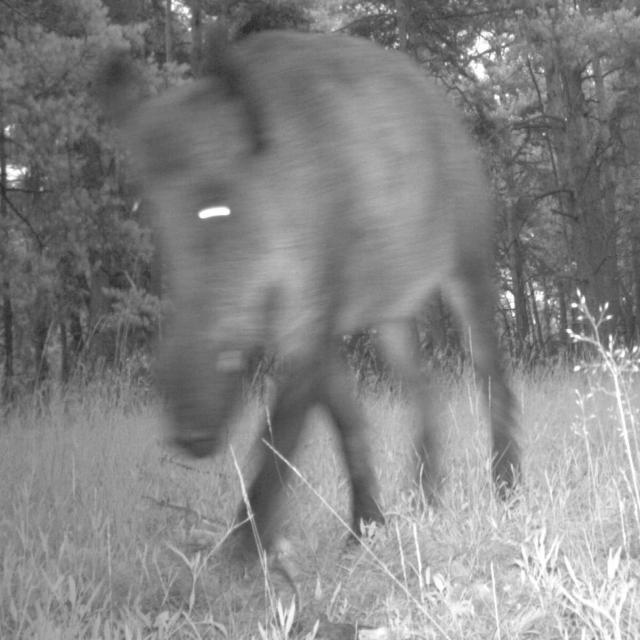pig: (88, 12, 536, 533)
